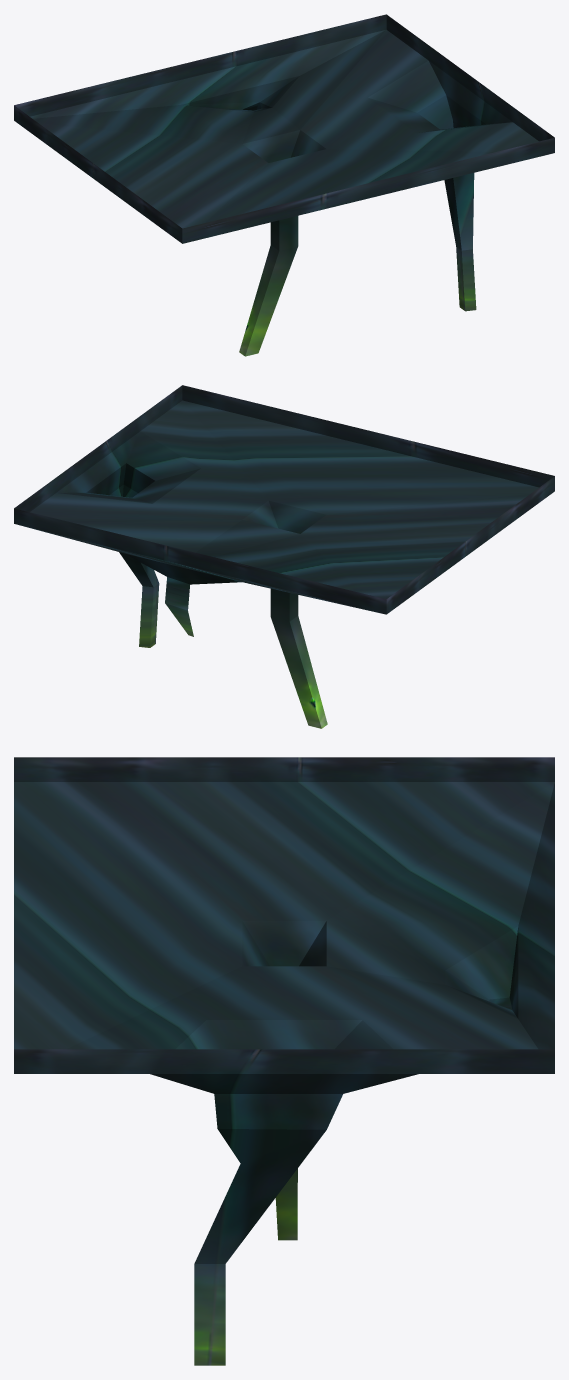
The model's file is CZPlat_6_Lat.gltf.
The picture shows the model from 3 angles, top to bottom: view 1: azimuth 30°, elevation 25°; view 2: azimuth 150°, elevation 25°; view 3: azimuth 270°, elevation 25°; orthographic projection. The views are drawn at different scales.
Visible parts, largest first — view 1: CZPlat_6_Lat; view 2: CZPlat_6_Lat; view 3: CZPlat_6_Lat.
Boxes of the visible parts, x1,y1,x2,y2 form: CZPlat_6_Lat: (14, 14, 554, 356); CZPlat_6_Lat: (14, 385, 554, 728); CZPlat_6_Lat: (14, 757, 554, 1365).
Bounding box in the file's own units: 29.42 × 16.88 × 23.05.
Materials: 1 (1 with a texture image).
